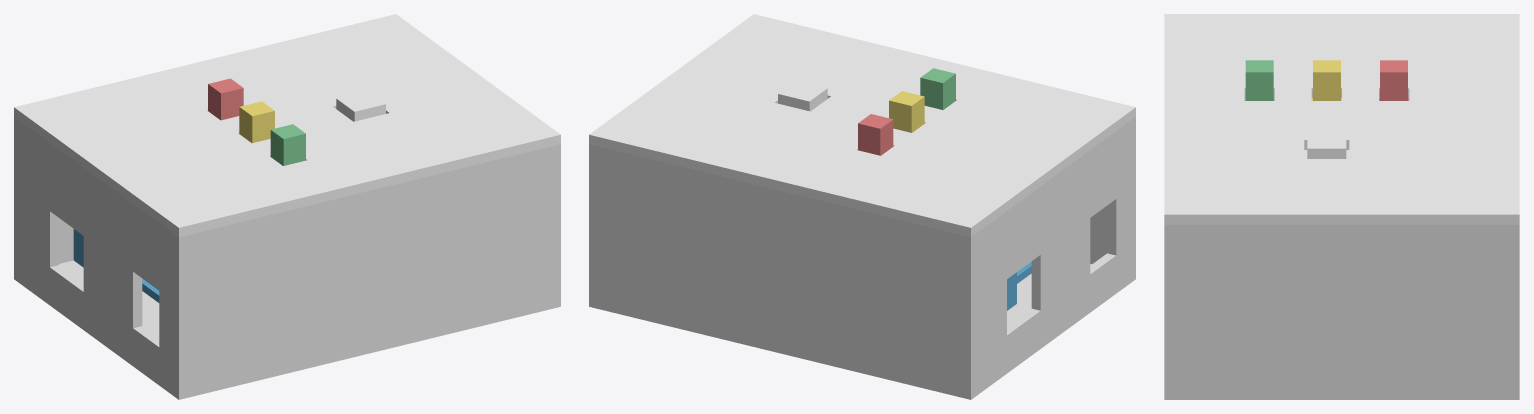
Rendered from design.glb.
3 views of the same model, side by side, from view 1: azimuth 30°, elevation 25°; view 2: azimuth 150°, elevation 25°; view 3: azimuth 270°, elevation 25° (orthographic). The views are drawn at different scales.
Visible parts, largest first — view 1: base, lid, led-green, led-yellow, led-red, btn-walk, uno; view 2: base, lid, led-red, led-yellow, led-green, btn-walk, uno; view 3: lid, base, led-green, led-red, led-yellow, btn-walk.
Boxes of the visible parts, bbox=[...] form: base: bbox=[14, 117, 560, 399]; lid: bbox=[14, 14, 560, 237]; led-green: bbox=[270, 124, 305, 165]; led-yellow: bbox=[239, 101, 274, 143]; led-red: bbox=[208, 78, 243, 120]; btn-walk: bbox=[336, 91, 385, 121]; uno: bbox=[73, 229, 159, 302]; base: bbox=[589, 117, 1135, 399]; lid: bbox=[589, 14, 1135, 237]; led-red: bbox=[858, 114, 893, 155]; led-yellow: bbox=[889, 91, 924, 132]; led-green: bbox=[920, 68, 955, 109]; btn-walk: bbox=[778, 80, 827, 111]; uno: bbox=[1007, 261, 1031, 310]; lid: bbox=[1164, 14, 1519, 224]; base: bbox=[1164, 225, 1519, 399]; led-green: bbox=[1244, 60, 1274, 100]; led-red: bbox=[1379, 60, 1409, 100]; led-yellow: bbox=[1311, 60, 1341, 100]; btn-walk: bbox=[1304, 132, 1349, 158].
Size of the model in its own units: 0.0848 by 0.0421 by 0.0634.
